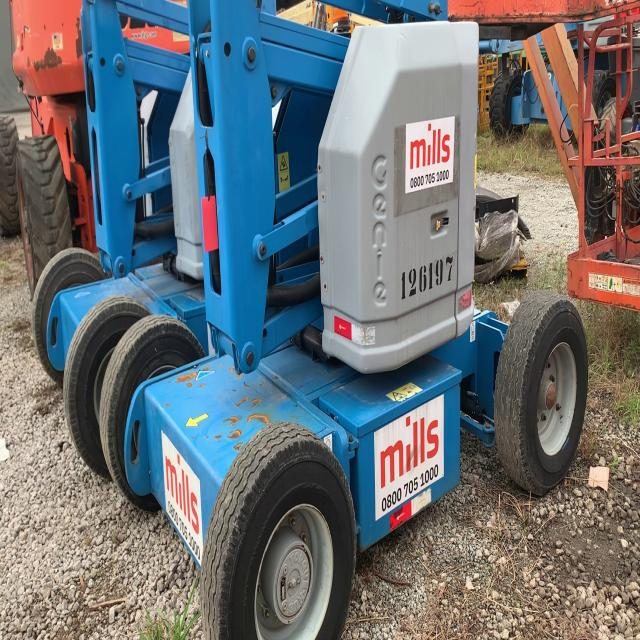Adesivos: (372, 391, 445, 525), (160, 427, 204, 567), (404, 114, 456, 197)
